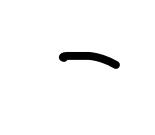minus: (58, 51, 120, 69)
